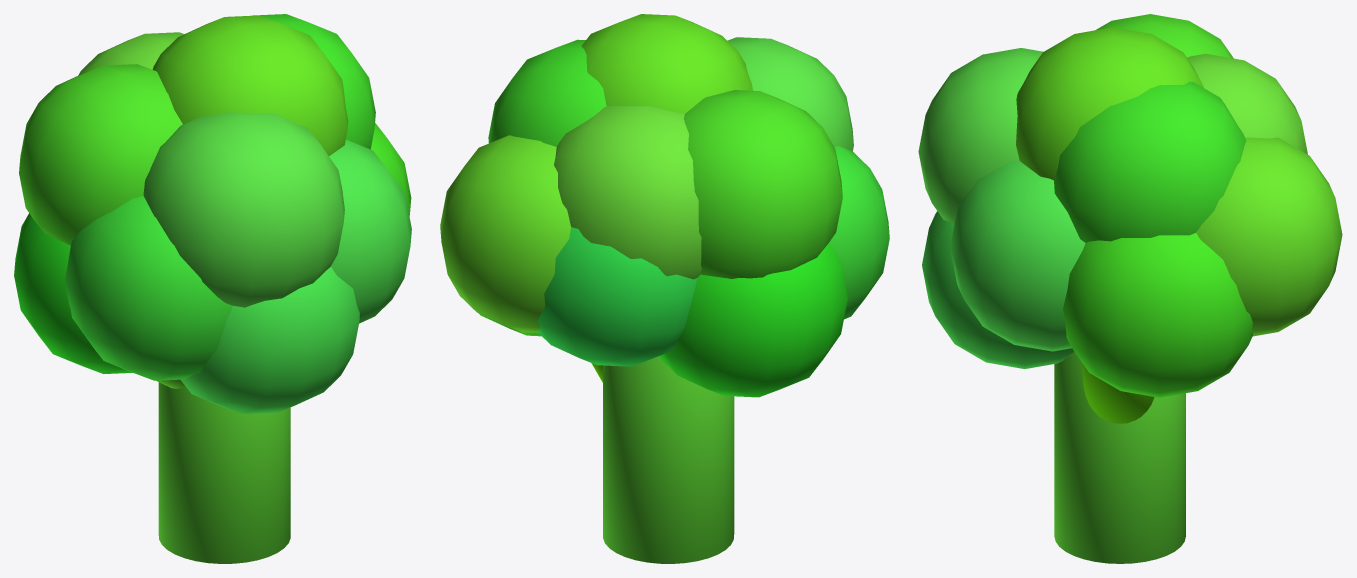
The model's file is Brokli.fbx.
The picture shows the model from 3 angles, left to right: view 1: azimuth 30°, elevation 25°; view 2: azimuth 150°, elevation 25°; view 3: azimuth 270°, elevation 25°; orthographic projection.
Parts seen in each view (by area): view 1: Cube.010, Cylinder, Cube.003, Cube.006, Cube.005, Cube.011, Cube.002, Cube.004, Cube.007, Cube.009, Cube; view 2: Cylinder, Cube.006, Cube.009, Cube.008, Cube.004, Cube.001, Cube.005, Cube.007, Cube.010, Cube.003; view 3: Cube, Cube.007, Cylinder, Cube.008, Cube.002, Cube.005, Cube.010, Cube.011, Cube.009, Cube.006, Cylinder.001.
Part boxes in pixels (x1,y1,x2,y2): Cube.010: (143, 112, 344, 307); Cylinder: (158, 382, 290, 563); Cube.003: (65, 195, 232, 380); Cube.006: (19, 64, 182, 245); Cube.005: (152, 15, 348, 155); Cube.011: (181, 266, 359, 413); Cube.002: (329, 139, 411, 323); Cube.004: (14, 213, 132, 373); Cube.007: (253, 14, 375, 149); Cube.009: (78, 32, 184, 75); Cube: (370, 123, 411, 215); Cylinder: (603, 356, 734, 563); Cube.006: (684, 90, 842, 278); Cube.009: (554, 106, 701, 279); Cube.008: (440, 135, 570, 333); Cube.004: (659, 242, 847, 397); Cube.001: (537, 227, 697, 366); Cube.005: (581, 14, 752, 113); Cube.007: (488, 39, 606, 146); Cube.010: (727, 37, 853, 151); Cube.003: (829, 146, 889, 319); Cube: (1063, 233, 1253, 397); Cube.007: (1054, 81, 1246, 242); Cylinder: (1054, 352, 1185, 563); Cube.008: (1196, 137, 1342, 336); Cube.002: (950, 160, 1085, 351); Cube.005: (1016, 27, 1203, 180); Cube.010: (918, 48, 1043, 224); Cube.011: (922, 211, 1074, 368); Cube.009: (1187, 53, 1307, 154); Cube.006: (1095, 14, 1233, 58); Cylinder.001: (1082, 364, 1154, 423).
Size of the model in its own units: 249 by 325 by 246.
